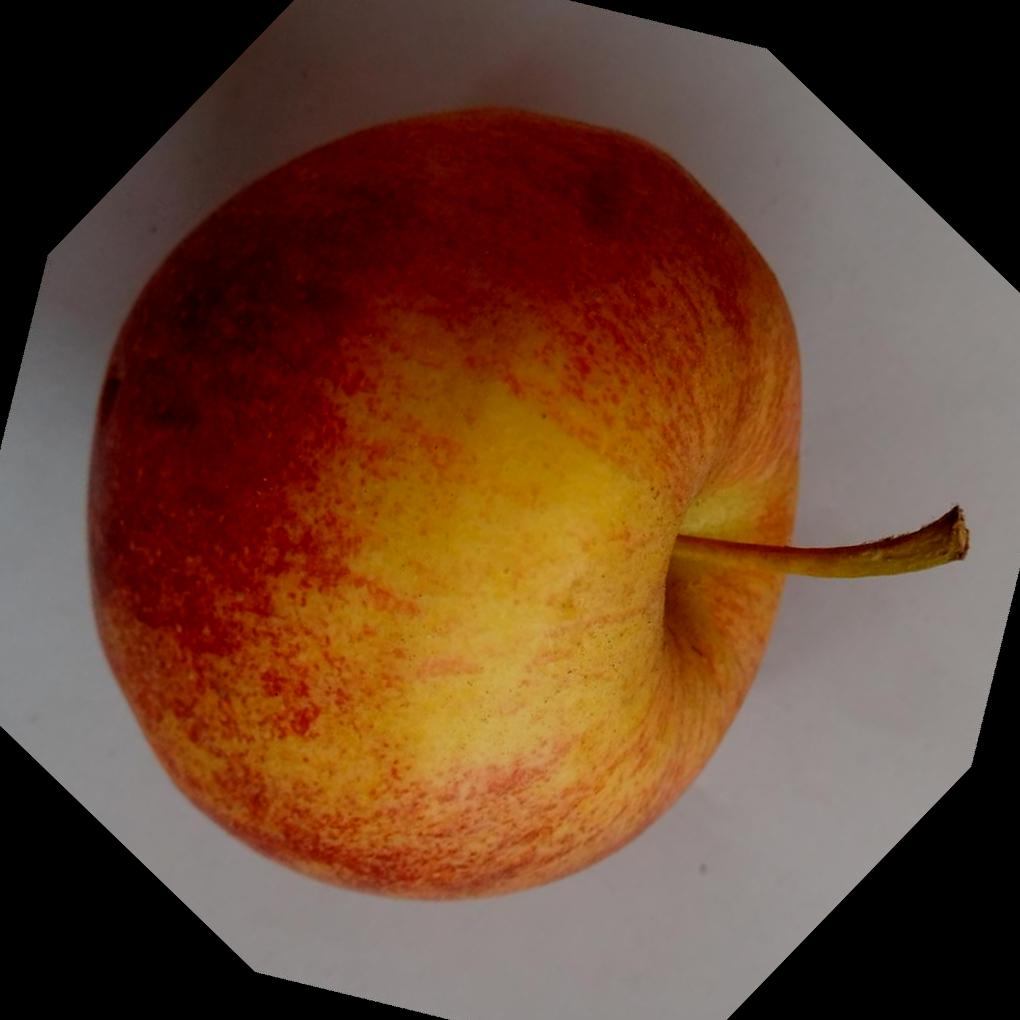FreshGuava: (79, 105, 969, 905)
